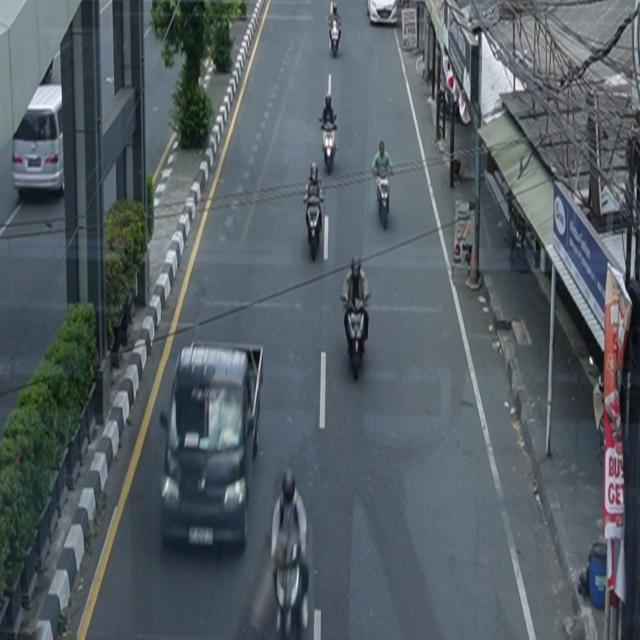car: (160, 342, 265, 553), (12, 85, 65, 197), (367, 1, 398, 26)
